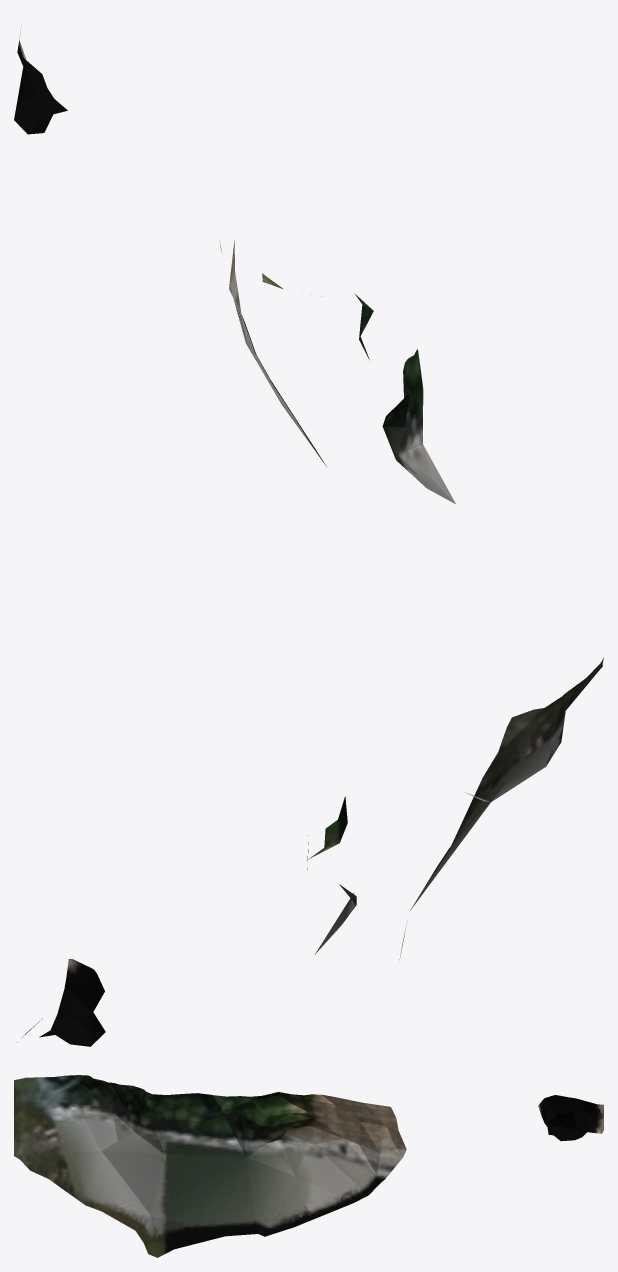
3 renders of one model, top to bottom at view 1: azimuth 30°, elevation 25°; view 2: azimuth 150°, elevation 25°; view 3: azimuth 270°, elevation 25°, orthographic. The views are drawn at different scales.
Bounding box in the file's own units: 0.8852 × 1.89 × 6.7.
1 material, 1 textured.
